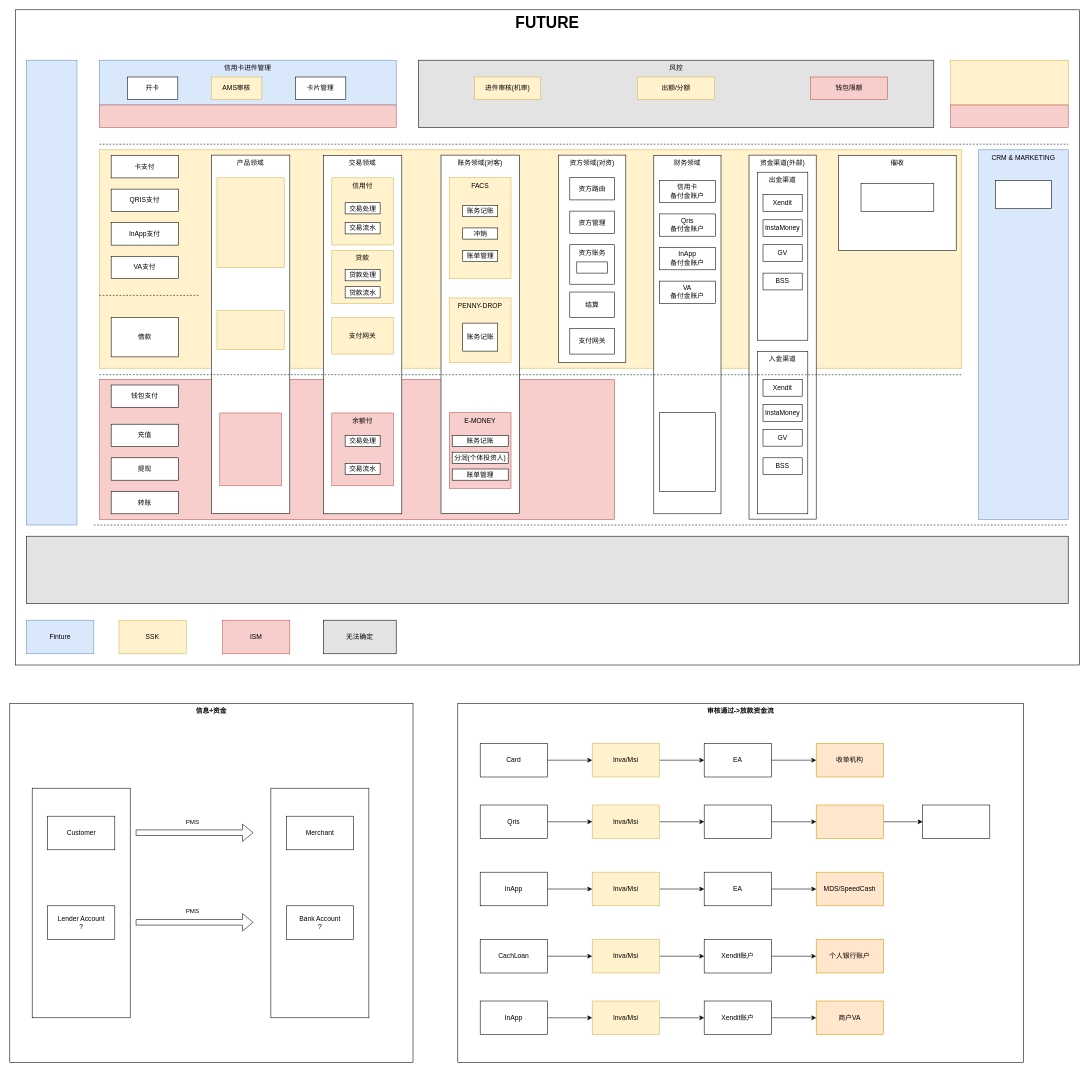
Image size: 1089x1072. Some labels were removed from this diagram. The shapes that lost their labels are listed below. From the top down, each one's centre as x and y in pixels, then its label:
At point (1009, 82): "联名信用卡 授信额度".
At point (247, 115): "电子钱包注册".
At point (1009, 115): "电子钱包 限额".
At point (897, 197): "CMS".
At point (1023, 194): "MOP".
At point (250, 222): "信用卡账户".
At point (592, 267): "记账".
At point (51, 292): "APP".
At point (250, 330): "现金贷账户".
At point (250, 449): "钱包账户 (余额)".
At point (687, 451): "余额 备付金账户".
At point (547, 569): "大数据".
At point (737, 821): "GV账户(Inva/Msi)".
At point (849, 821): "个人GV账户".
At point (956, 821): "商户GV账户".
